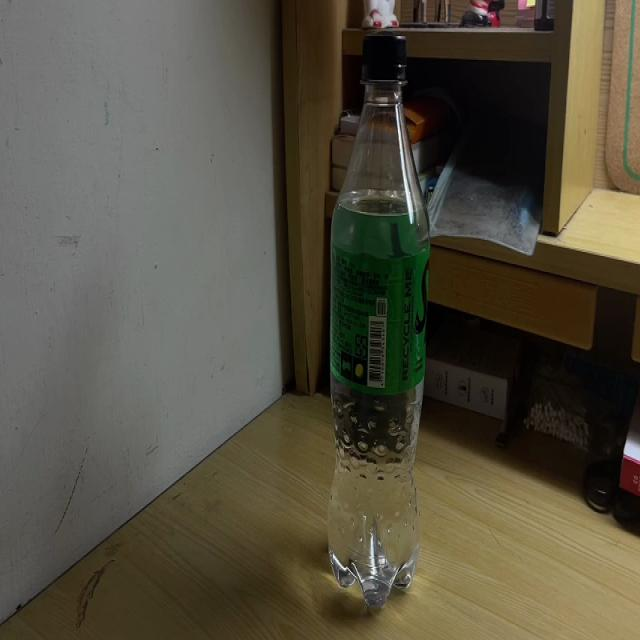Sprite: (329, 33, 430, 615)
